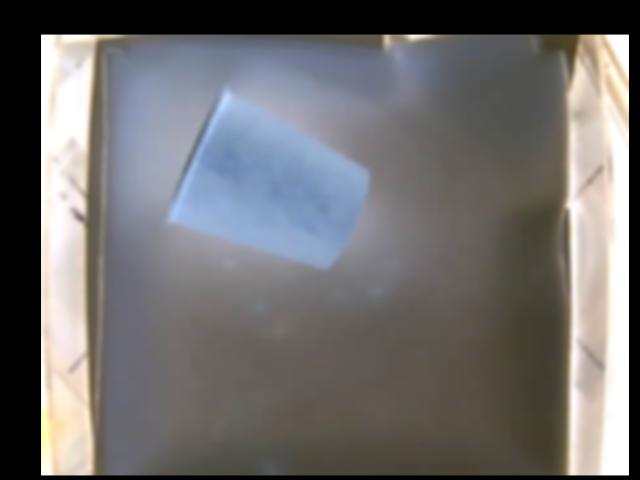Cup: (161, 86, 370, 266)
